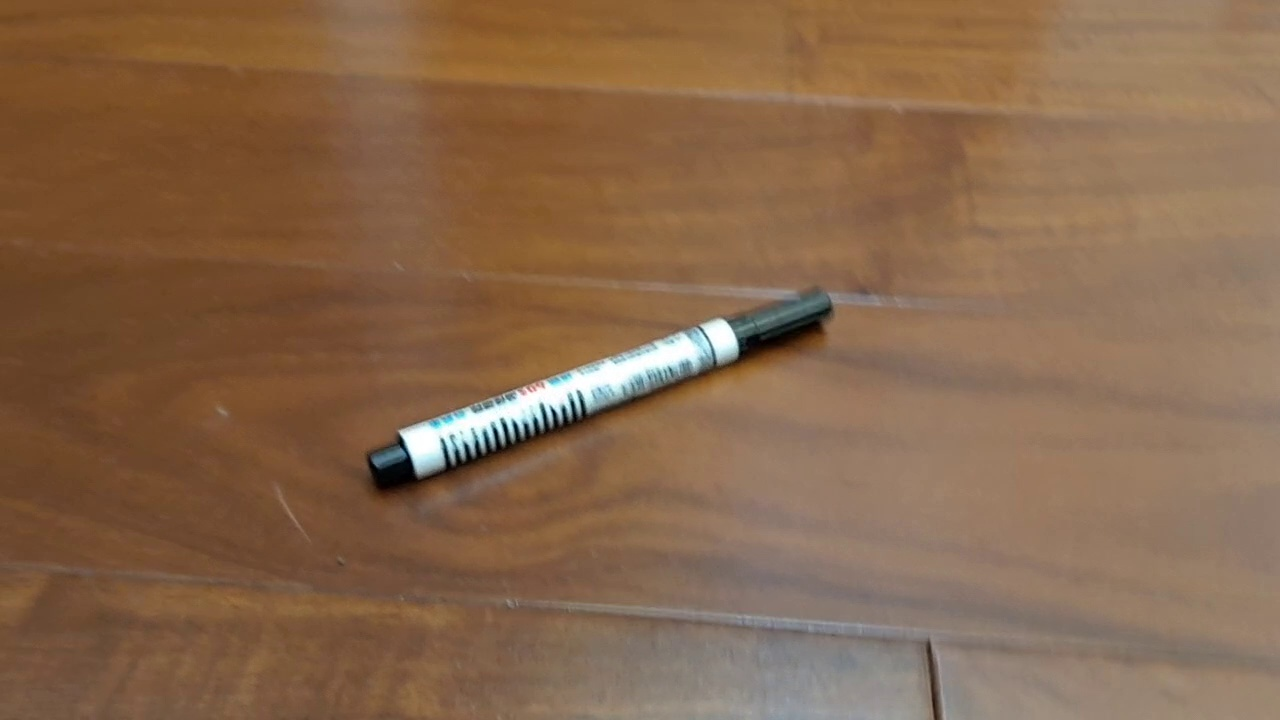pen: (364, 287, 835, 490)
